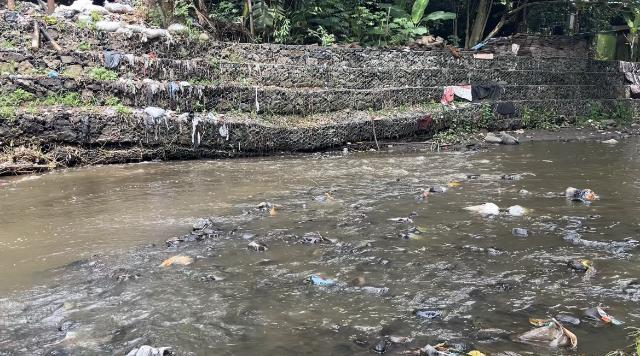Sampah Anorganik: (519, 319, 578, 350), (565, 185, 605, 208), (593, 305, 625, 332), (458, 198, 500, 216), (303, 276, 338, 294), (389, 217, 416, 227), (510, 205, 528, 217), (447, 180, 461, 188)
Sampah Organik: (367, 339, 493, 356), (350, 280, 384, 298), (156, 256, 197, 266), (404, 227, 426, 240), (324, 193, 339, 204), (167, 237, 180, 243), (582, 260, 590, 267), (421, 189, 427, 198), (269, 208, 276, 215)
